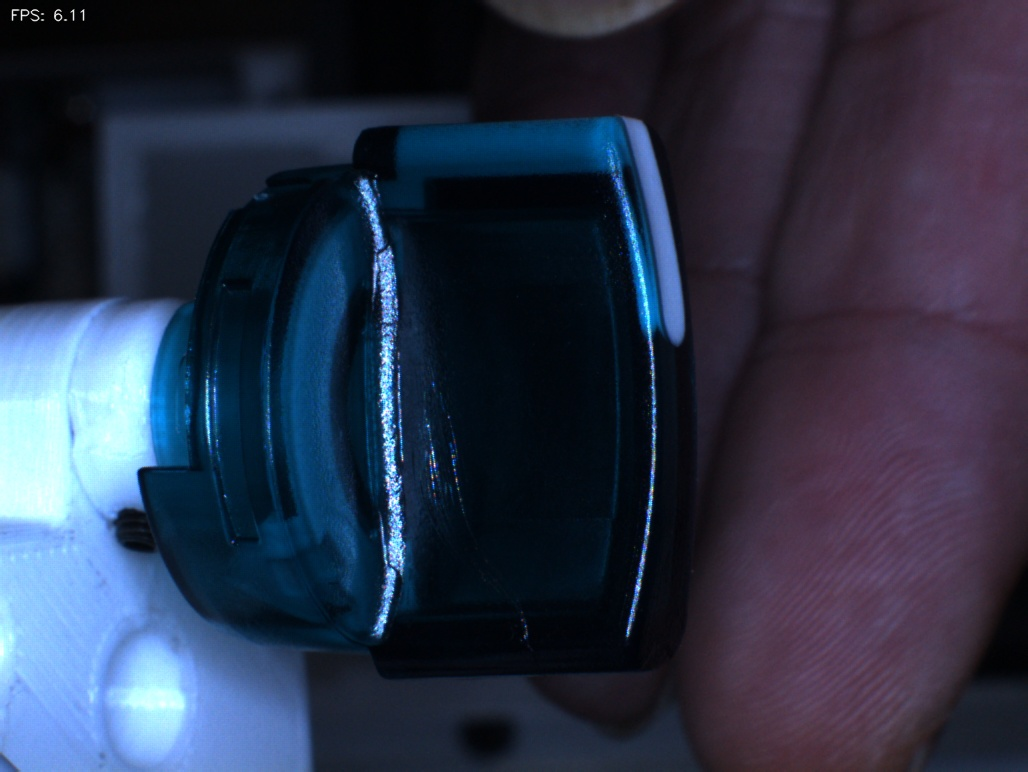Givrage: (409, 365, 540, 647)
